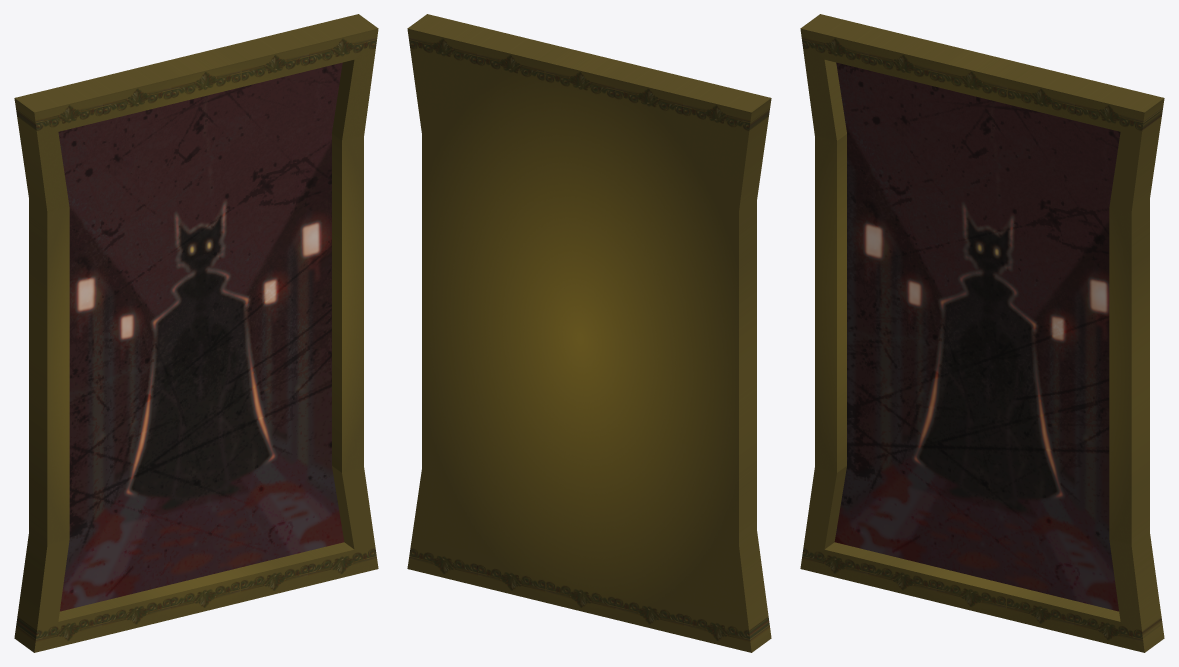
Rendered from WolfPainting.fbx.
3 renders of one model, left to right at view 1: azimuth 30°, elevation 25°; view 2: azimuth 150°, elevation 25°; view 3: azimuth 330°, elevation 25°, orthographic.
Parts seen in each view (by area): view 1: Box027; view 2: Box027; view 3: Box027.
Part boxes in pixels (box(x1,y1,x2,y2)): Box027: box(14, 14, 378, 652); Box027: box(407, 14, 771, 652); Box027: box(800, 14, 1164, 652).
Size of the model in its own units: 4 by 0.4 by 6.
